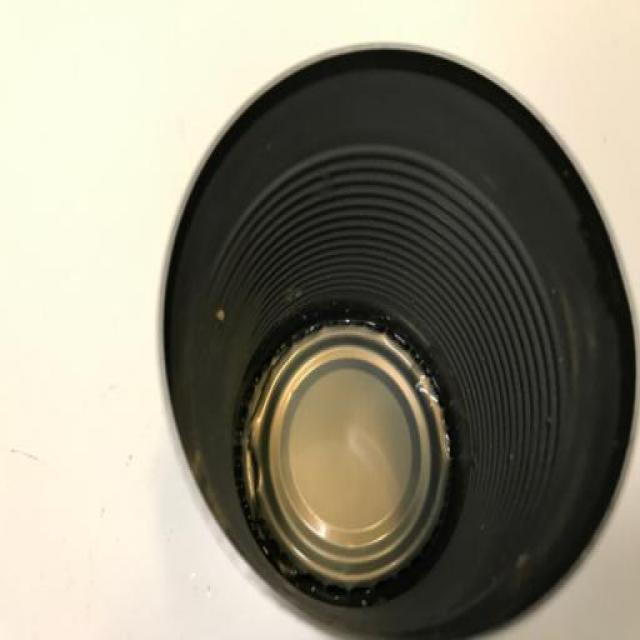metel: (158, 21, 640, 640)
